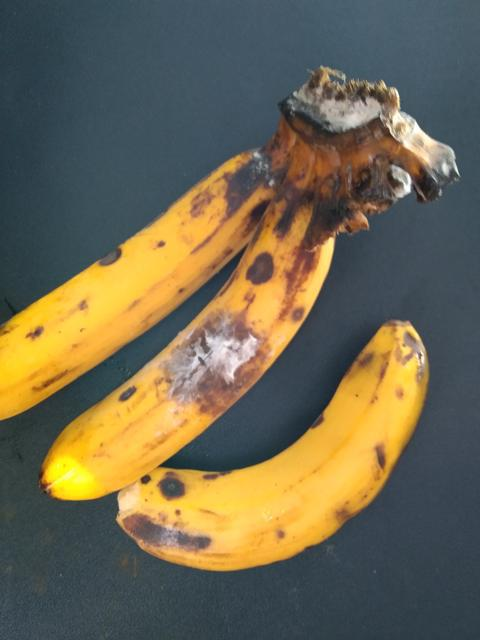ripe: (129, 317, 474, 612), (0, 150, 256, 413)
rotten: (26, 219, 334, 494)
